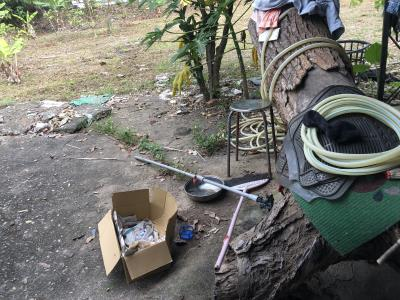bowl: (183, 174, 228, 202)
box: (96, 183, 183, 286)
